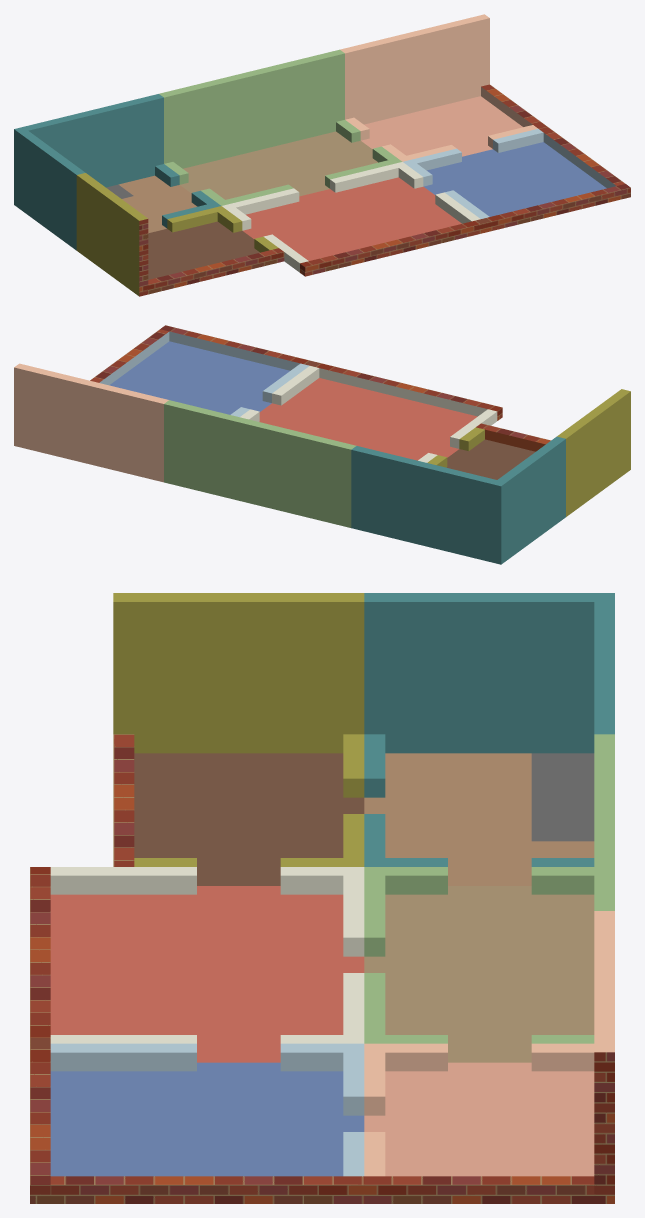
The model's file is Secondo piano.fbx.
The picture shows the model from 3 angles, top to bottom: view 1: azimuth 30°, elevation 25°; view 2: azimuth 150°, elevation 25°; view 3: azimuth 270°, elevation 25°; orthographic projection. The views are drawn at different scales.
Visible parts, largest first — view 1: Room_7; view 2: Room_7; view 3: Room_7.
Part boxes in pixels (<box>): Room_7: <box>14,14,630,296</box>; Room_7: <box>14,325,630,564</box>; Room_7: <box>30,593,614,1203</box>.
Bounding box in the file's own units: 26 × 4 × 14.
